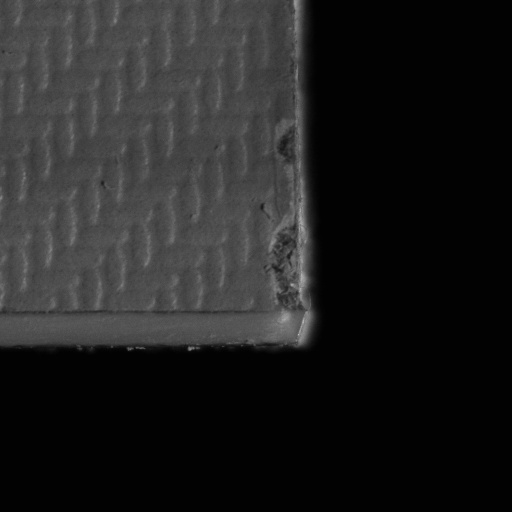bengque: (262, 215, 308, 313), (272, 120, 300, 168)
